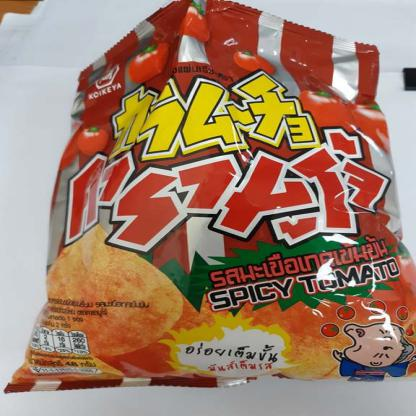potatochip: (4, 3, 415, 396)
